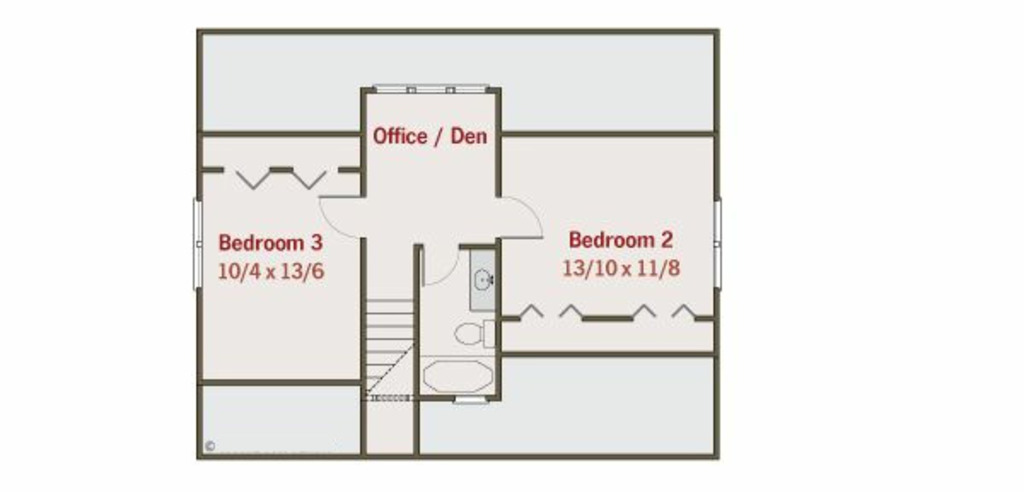door: (314, 191, 368, 238), (495, 194, 552, 235), (421, 242, 467, 290)
large_sink: (447, 312, 497, 348)
small_sink: (464, 241, 500, 311)
stairs: (366, 284, 429, 408)
tub: (417, 355, 496, 400)
window: (372, 81, 488, 98), (188, 194, 207, 290), (712, 202, 726, 289)
